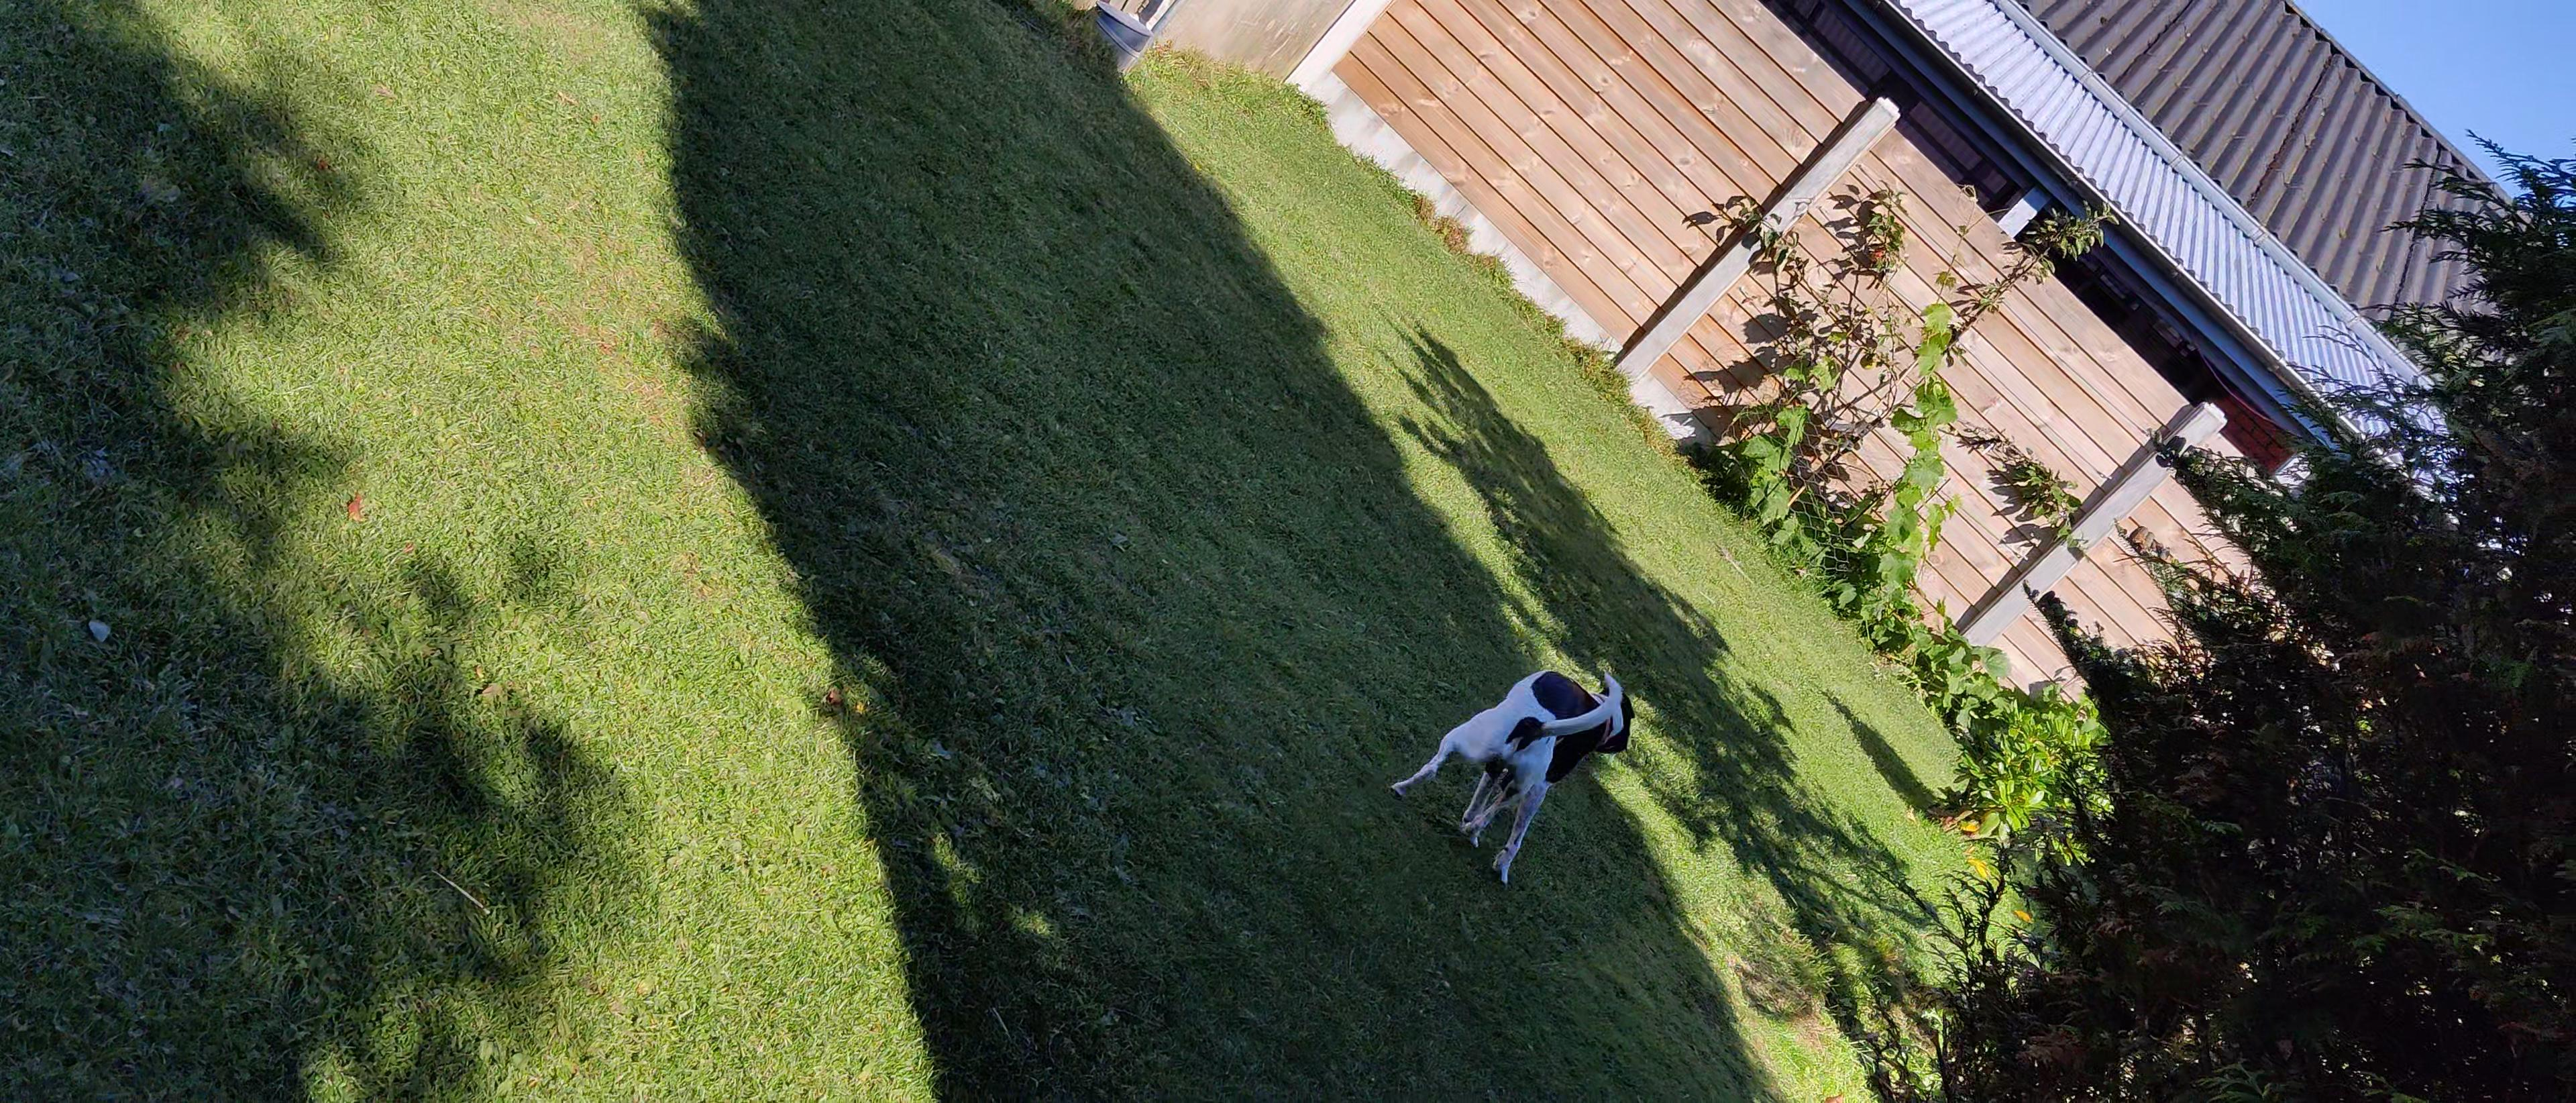Dog: (1383, 659, 1643, 891)
